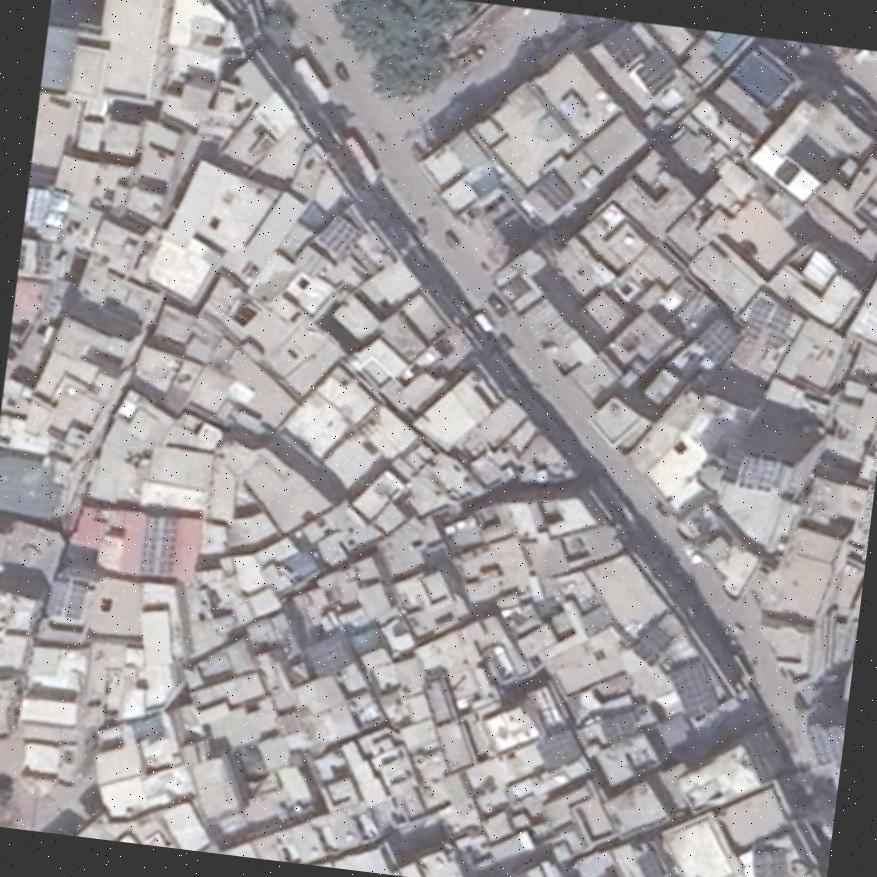Solarpanel: (667, 662, 717, 717), (138, 513, 177, 573), (314, 215, 363, 254), (694, 317, 740, 357), (630, 624, 674, 665), (538, 730, 582, 770), (803, 726, 844, 767), (48, 579, 88, 619), (738, 457, 781, 490), (537, 170, 571, 209), (743, 296, 771, 340), (763, 307, 791, 348), (751, 850, 788, 877), (637, 851, 666, 877)
